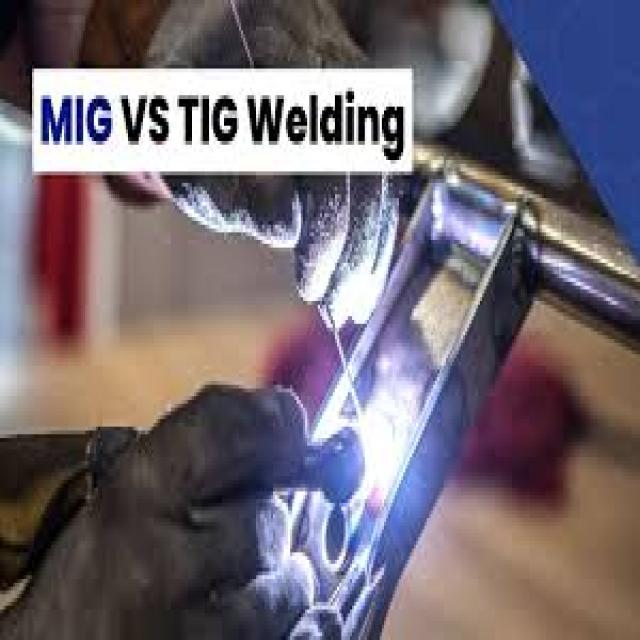welding: (362, 398, 400, 479)
